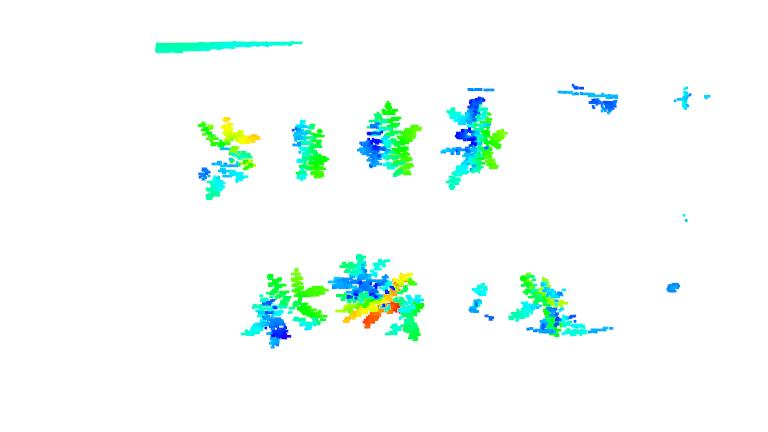chickpea: (329, 252, 427, 343), (508, 270, 619, 340), (239, 267, 326, 351), (440, 94, 507, 194), (191, 114, 265, 204), (354, 98, 424, 180), (289, 117, 328, 185)
